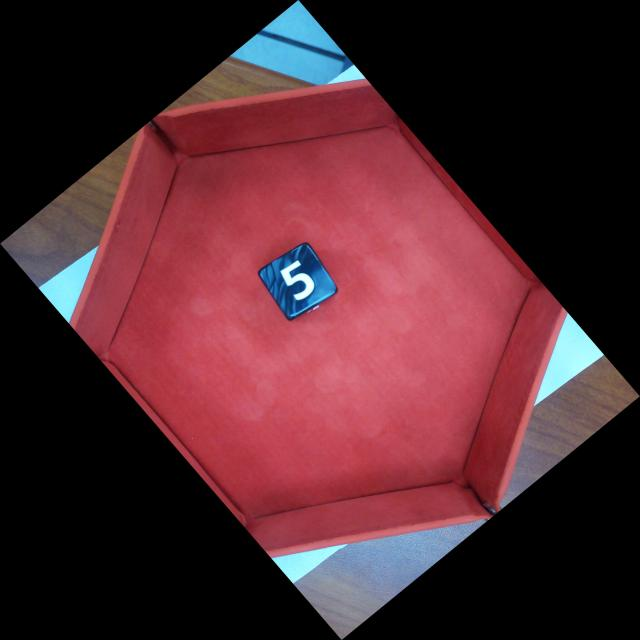dice: (258, 242, 339, 321)
